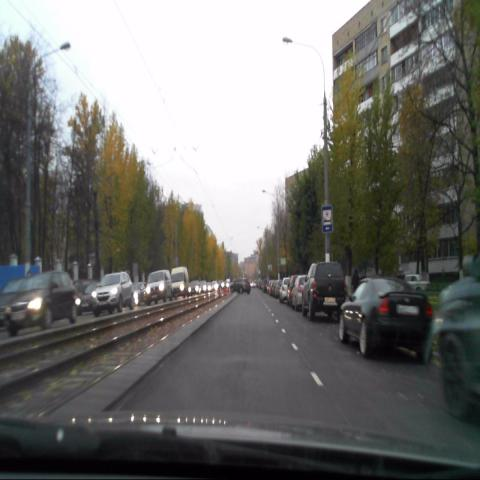7_2: (322, 204, 332, 232)
